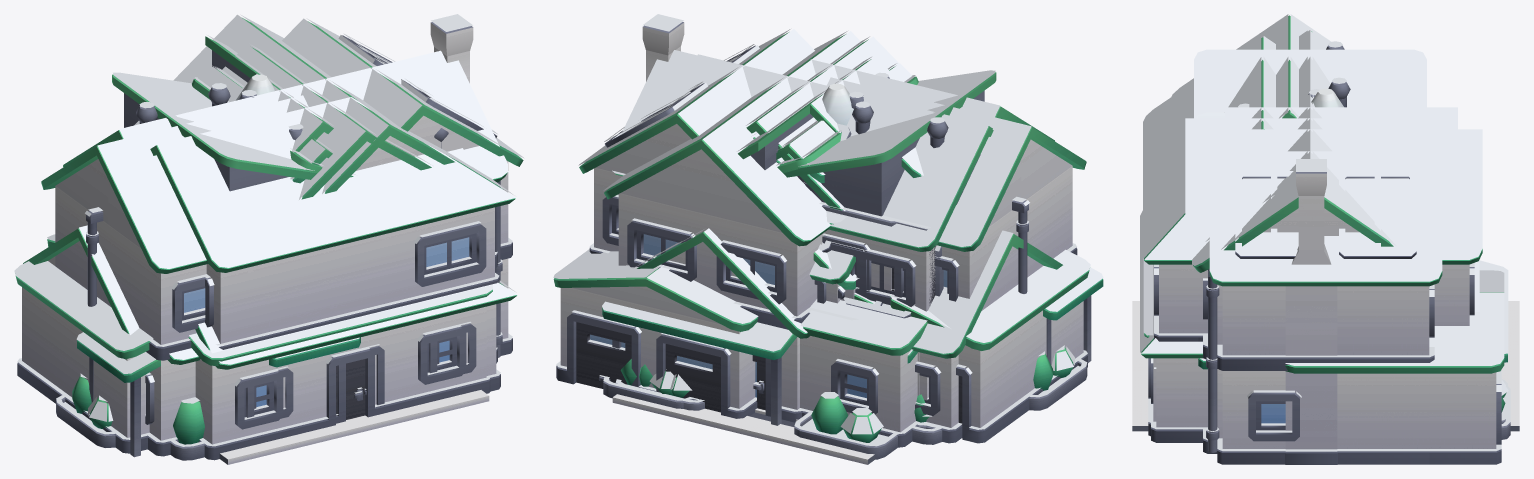
Rendered from winter-kit.glb.
3 views of the same model, side by side, from view 1: azimuth 30°, elevation 25°; view 2: azimuth 150°, elevation 25°; view 3: azimuth 270°, elevation 25° (orthographic). The views are drawn at different scales.
Parts seen in each view (by area): view 1: snow (×11), building-type-f, building-type-t, building-type-n, building-type-d, building-type-b, building-type-m, road-side, building-type-k, building-type-u, building-type-s, building-type-r; view 2: snow (×13), building-type-n, building-type-f, building-type-d, building-type-t, building-type-b, building-type-k, building-type-e, road-side, building-type-m, building-type-r, building-type-l (+5 smaller); view 3: snow (×12), building-type-b, building-type-d, building-type-f, building-type-n, road-side, building-type-m, building-type-t, building-type-u, tree-snow-b.
Part boxes in pixels (left/top/right/bottom): snow (×11): left=14, top=14, right=524, bottom=446; building-type-f: left=150, top=18, right=515, bottom=460; building-type-t: left=47, top=69, right=492, bottom=460; building-type-n: left=41, top=146, right=360, bottom=457; building-type-d: left=15, top=22, right=507, bottom=453; building-type-b: left=23, top=21, right=523, bottom=447; building-type-m: left=195, top=283, right=516, bottom=444; road-side: left=219, top=390, right=489, bottom=464; building-type-k: left=112, top=74, right=316, bottom=191; building-type-u: left=275, top=42, right=485, bottom=193; building-type-s: left=252, top=47, right=431, bottom=199; building-type-r: left=205, top=36, right=333, bottom=153; snow (×13): left=553, top=14, right=1103, bottom=446; building-type-n: left=553, top=127, right=1103, bottom=441; building-type-f: left=602, top=60, right=1054, bottom=425; building-type-d: left=615, top=22, right=1089, bottom=443; building-type-t: left=616, top=66, right=992, bottom=459; building-type-b: left=579, top=32, right=1087, bottom=443; building-type-k: left=783, top=72, right=996, bottom=287; building-type-e: left=776, top=127, right=993, bottom=363; road-side: left=612, top=394, right=875, bottom=464; building-type-m: left=603, top=231, right=809, bottom=408; building-type-r: left=738, top=59, right=871, bottom=169; building-type-l: left=777, top=76, right=918, bottom=292; snow (×12): left=1140, top=14, right=1510, bottom=451; building-type-b: left=1206, top=176, right=1442, bottom=464; building-type-d: left=1193, top=82, right=1393, bottom=464; building-type-f: left=1144, top=37, right=1507, bottom=442; building-type-n: left=1282, top=15, right=1504, bottom=464; road-side: left=1132, top=301, right=1519, bottom=431; building-type-m: left=1141, top=338, right=1510, bottom=442; building-type-t: left=1144, top=45, right=1505, bottom=436; building-type-u: left=1194, top=270, right=1207, bottom=430; tree-snow-b: left=1311, top=88, right=1343, bottom=107.
Bounding box in the file's own units: 12.83 × 8.72 × 10.48.
Materials: 7 (6 with a texture image).
